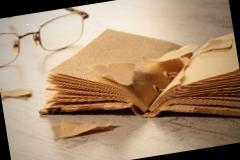paper: (27, 8, 240, 149), (50, 112, 112, 139), (1, 86, 33, 100)
